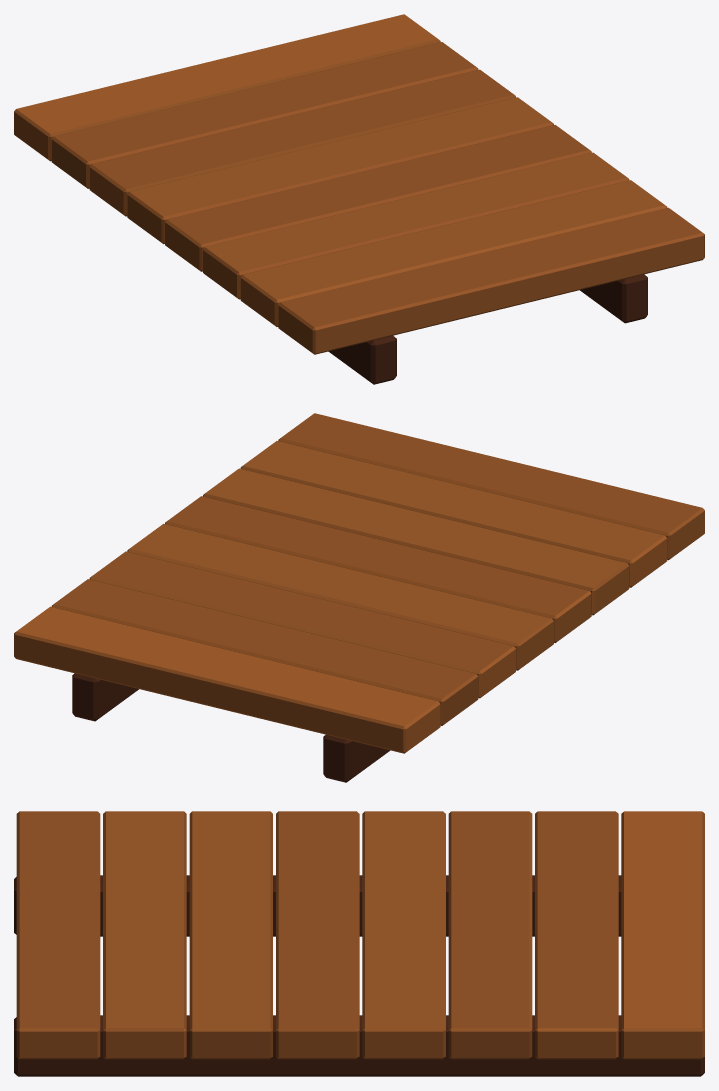
File: D29_Pier_Deck_2m.fbx
The picture shows the model from 3 angles, top to bottom: view 1: azimuth 30°, elevation 25°; view 2: azimuth 150°, elevation 25°; view 3: azimuth 270°, elevation 25°; orthographic projection. The views are drawn at different scales.
Parts seen in each view (by area): view 1: D29_Pier_Deck_2m; view 2: D29_Pier_Deck_2m; view 3: D29_Pier_Deck_2m.
Boxes of the visible parts, x1,y1,x2,y2 form: D29_Pier_Deck_2m: [14, 14, 704, 384]; D29_Pier_Deck_2m: [14, 413, 704, 782]; D29_Pier_Deck_2m: [14, 811, 704, 1076].
Bounding box in the file's own units: 1.5 × 0.26 × 2.
Materials: 2 (2 with a texture image).
